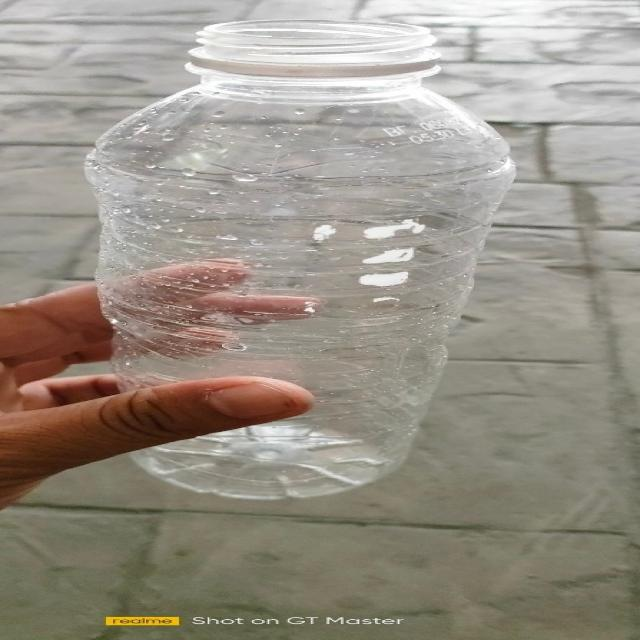bottle: (84, 18, 515, 500)
